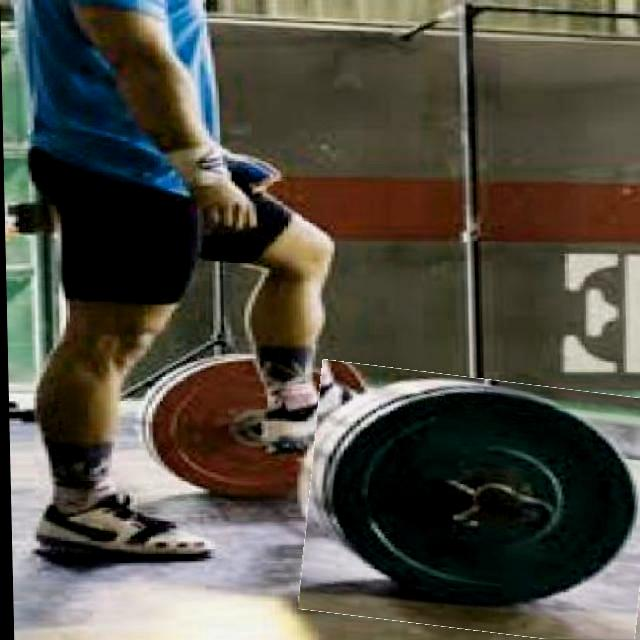barbell: (298, 370, 640, 640)
